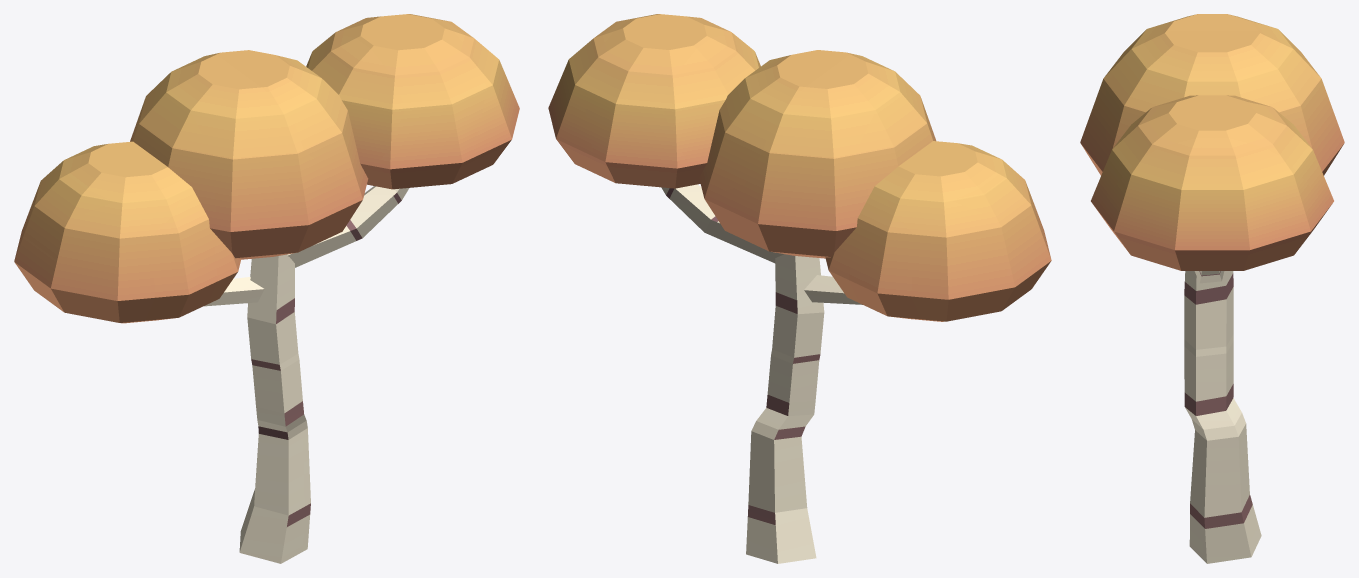
Rendered from small_tree_2.gltf.
3 views of the same model, side by side, from view 1: azimuth 30°, elevation 25°; view 2: azimuth 150°, elevation 25°; view 3: azimuth 270°, elevation 25° (orthographic). The views are drawn at different scales.
Visible parts, largest first — view 1: Object_10; view 2: Object_10; view 3: Object_10.
Part boxes in pixels (x1,y1,x2,y2): Object_10: [14, 14, 519, 563]; Object_10: [548, 14, 1051, 563]; Object_10: [1080, 14, 1344, 563].
Size of the model in its own units: 9.7 by 9.73 by 4.66.
1 material, 1 textured.
